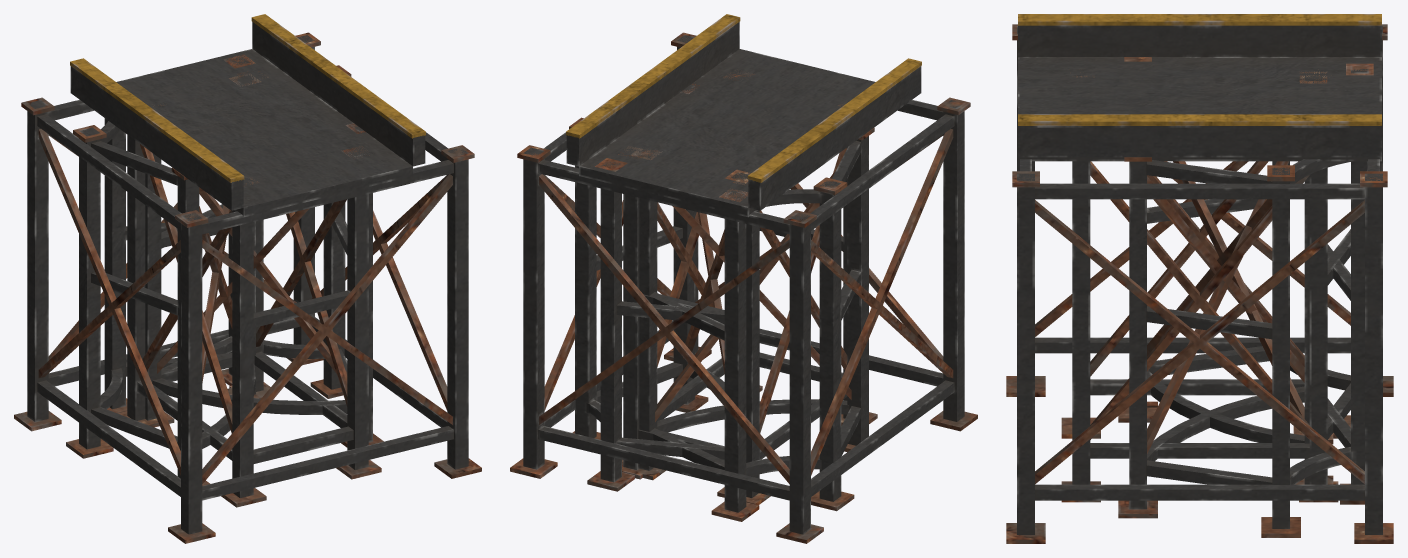
Rendered from feConveyorStand_HD.fbx.
3 views of the same model, side by side, from view 1: azimuth 30°, elevation 25°; view 2: azimuth 150°, elevation 25°; view 3: azimuth 270°, elevation 25° (orthographic). The views are drawn at different scales.
Parts seen in each view (by area): view 1: FeStand_Junction, FeStand_Duct, FeStand_Straight, FeStand_Curve_R, FeStand_Curve_L; view 2: FeStand_Junction, FeStand_Duct, FeStand_Curve_R, FeStand_Curve_L, FeStand_Straight; view 3: FeStand_Duct, FeStand_Junction, FeStand_Curve_L, FeStand_Straight, FeStand_Curve_R.
Part boxes in pixels (x1,y1,x2,y2): FeStand_Junction: (14, 32, 481, 543); FeStand_Duct: (70, 14, 425, 217); FeStand_Straight: (117, 71, 381, 507); FeStand_Curve_R: (66, 73, 264, 485); FeStand_Curve_L: (145, 54, 383, 447); FeStand_Junction: (510, 32, 977, 543); FeStand_Duct: (566, 14, 921, 217); FeStand_Curve_R: (630, 127, 874, 521); FeStand_Curve_L: (569, 83, 750, 499); FeStand_Straight: (618, 70, 877, 505); FeStand_Duct: (1018, 14, 1381, 161); FeStand_Junction: (1006, 24, 1393, 543); FeStand_Curve_L: (1118, 71, 1367, 537); FeStand_Straight: (1061, 72, 1338, 502); FeStand_Curve_R: (1118, 57, 1373, 484).
Size of the model in its own units: 0.98 by 1.1 by 0.98.
Materials: 1 (1 with a texture image).
